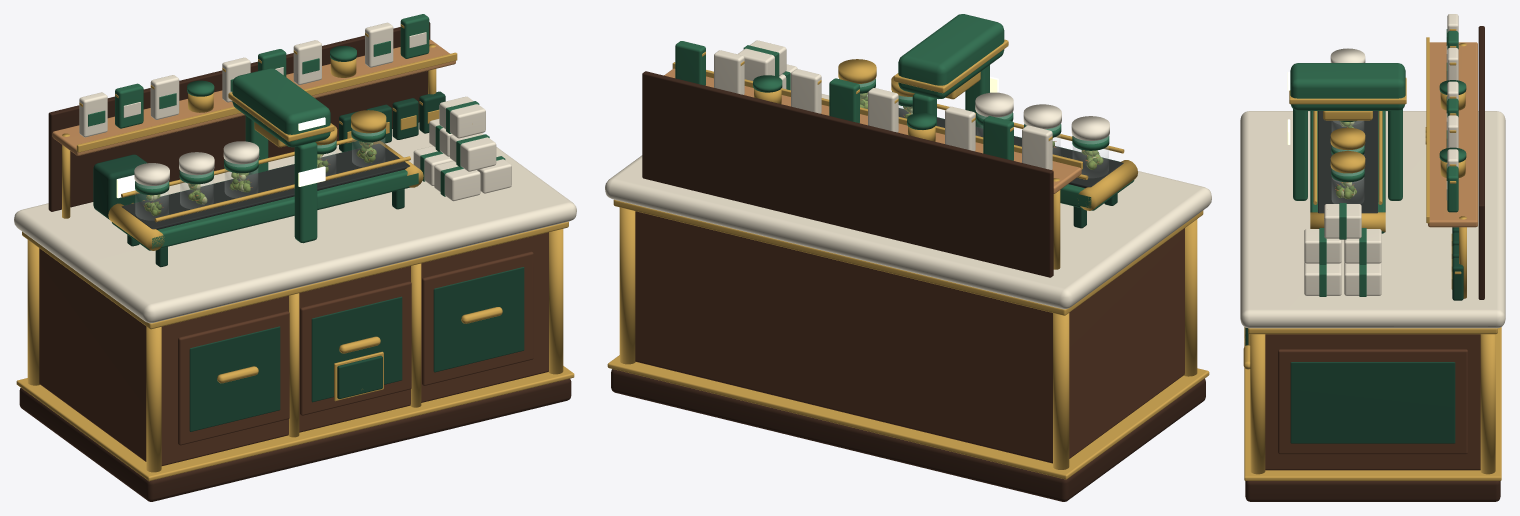
The model's file is pack_bench_tier5.glb.
The picture shows the model from 3 angles, left to right: view 1: azimuth 30°, elevation 25°; view 2: azimuth 150°, elevation 25°; view 3: azimuth 270°, elevation 25°; orthographic projection. The views are drawn at different scales.
Visible parts, largest first — view 1: Top, Body, Plinth, ShelfBack, DrawerInset2, DrawerInset0, PlinthBrass, ConvBelt, DrawerInset1, ConvFrame, Drawer0, Drawer2 (+40 smaller); view 2: Body, ShelfBack, Top, Plinth, PlinthBrass, SealerHead, TopBand, Column-11, Column11, Column-1-1, Shelf, ConvBelt (+18 smaller); view 3: Top, EndInset, Body, EndPanel, Shelf, Plinth, SealerHead, PlinthBrass, ConvBelt, Column1-1, Column11, ShelfBack (+25 smaller).
Part boxes in pixels (x1,y1,x2,y2): Top: (14,122,576,323); Body: (39,232,548,465); Plinth: (19,378,571,501); ShelfBack: (48,22,430,211); DrawerInset2: (433,267,524,372); DrawerInset0: (189,326,280,431); PlinthBrass: (16,366,574,481); ConvBelt: (121,143,409,229); DrawerInset1: (311,296,402,402); ConvFrame: (112,148,418,250); Drawer0: (178,311,289,445); Drawer2: (422,251,533,385); Body: (635,211,1184,463); ShelfBack: (642,71,1053,277); Top: (605,94,1211,309); Plinth: (611,369,1205,501); PlinthBrass: (607,355,1209,479); SealerHead: (898,14,1004,99); TopBand: (613,199,1203,315); Column-11: (1053,313,1069,469); Column11: (619,207,635,364); Column-1-1: (1184,219,1197,376); Shelf: (664,68,1081,193); ConvBelt: (860,98,1123,188); Top: (1240,111,1505,328); EndInset: (1290,362,1455,443); Body: (1265,334,1480,470); EndPanel: (1278,349,1467,454); Shelf: (1428,42,1477,227); Plinth: (1245,481,1500,501); SealerHead: (1290,63,1405,110); PlinthBrass: (1244,327,1501,480); ConvBelt: (1318,111,1377,213); Column1-1: (1250,334,1265,474); Column11: (1480,334,1495,474); ShelfBack: (1478,26,1484,299).
Size of the model in its own units: 1.94 by 1.41 by 1.06.
